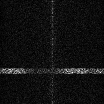wifi: (1, 67, 104, 73)
